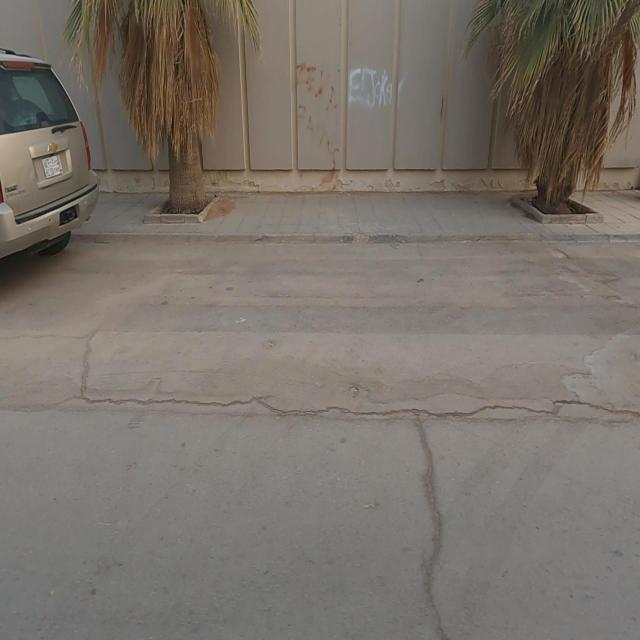Graffiti: (295, 62, 339, 167), (349, 69, 405, 112)
